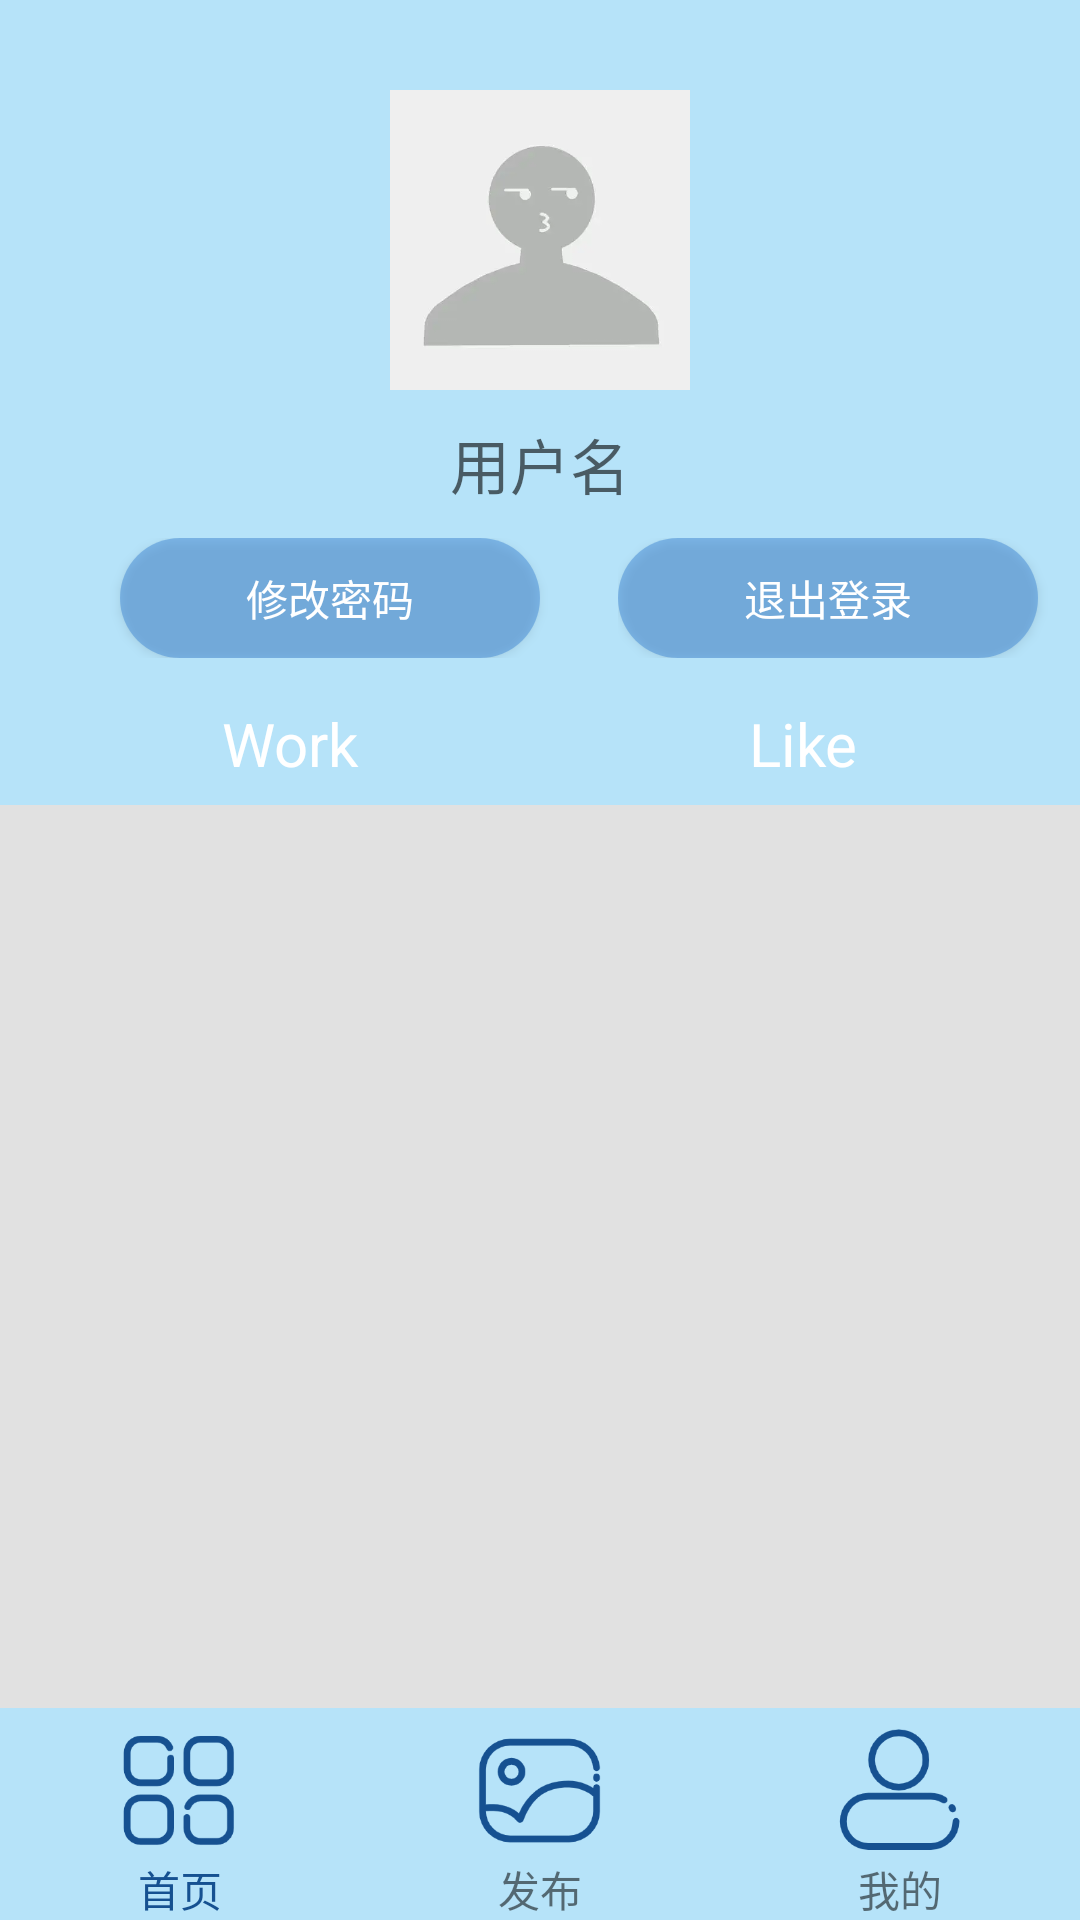

Locate icon controls on the screen. Image size 1080×1920, boxes as (x1, y1, x2, y2).
head: (390, 90, 690, 390)
